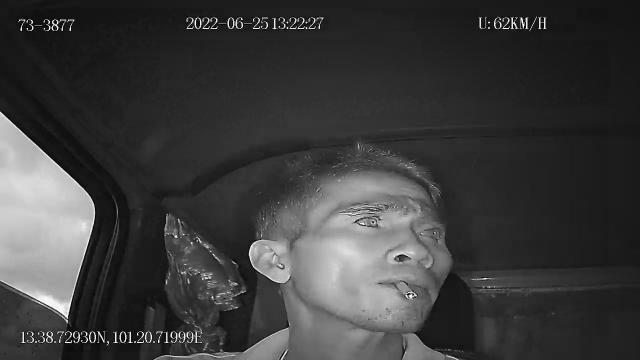SafeDriving: (342, 206, 394, 234)
Smoking: (394, 282, 416, 302)
